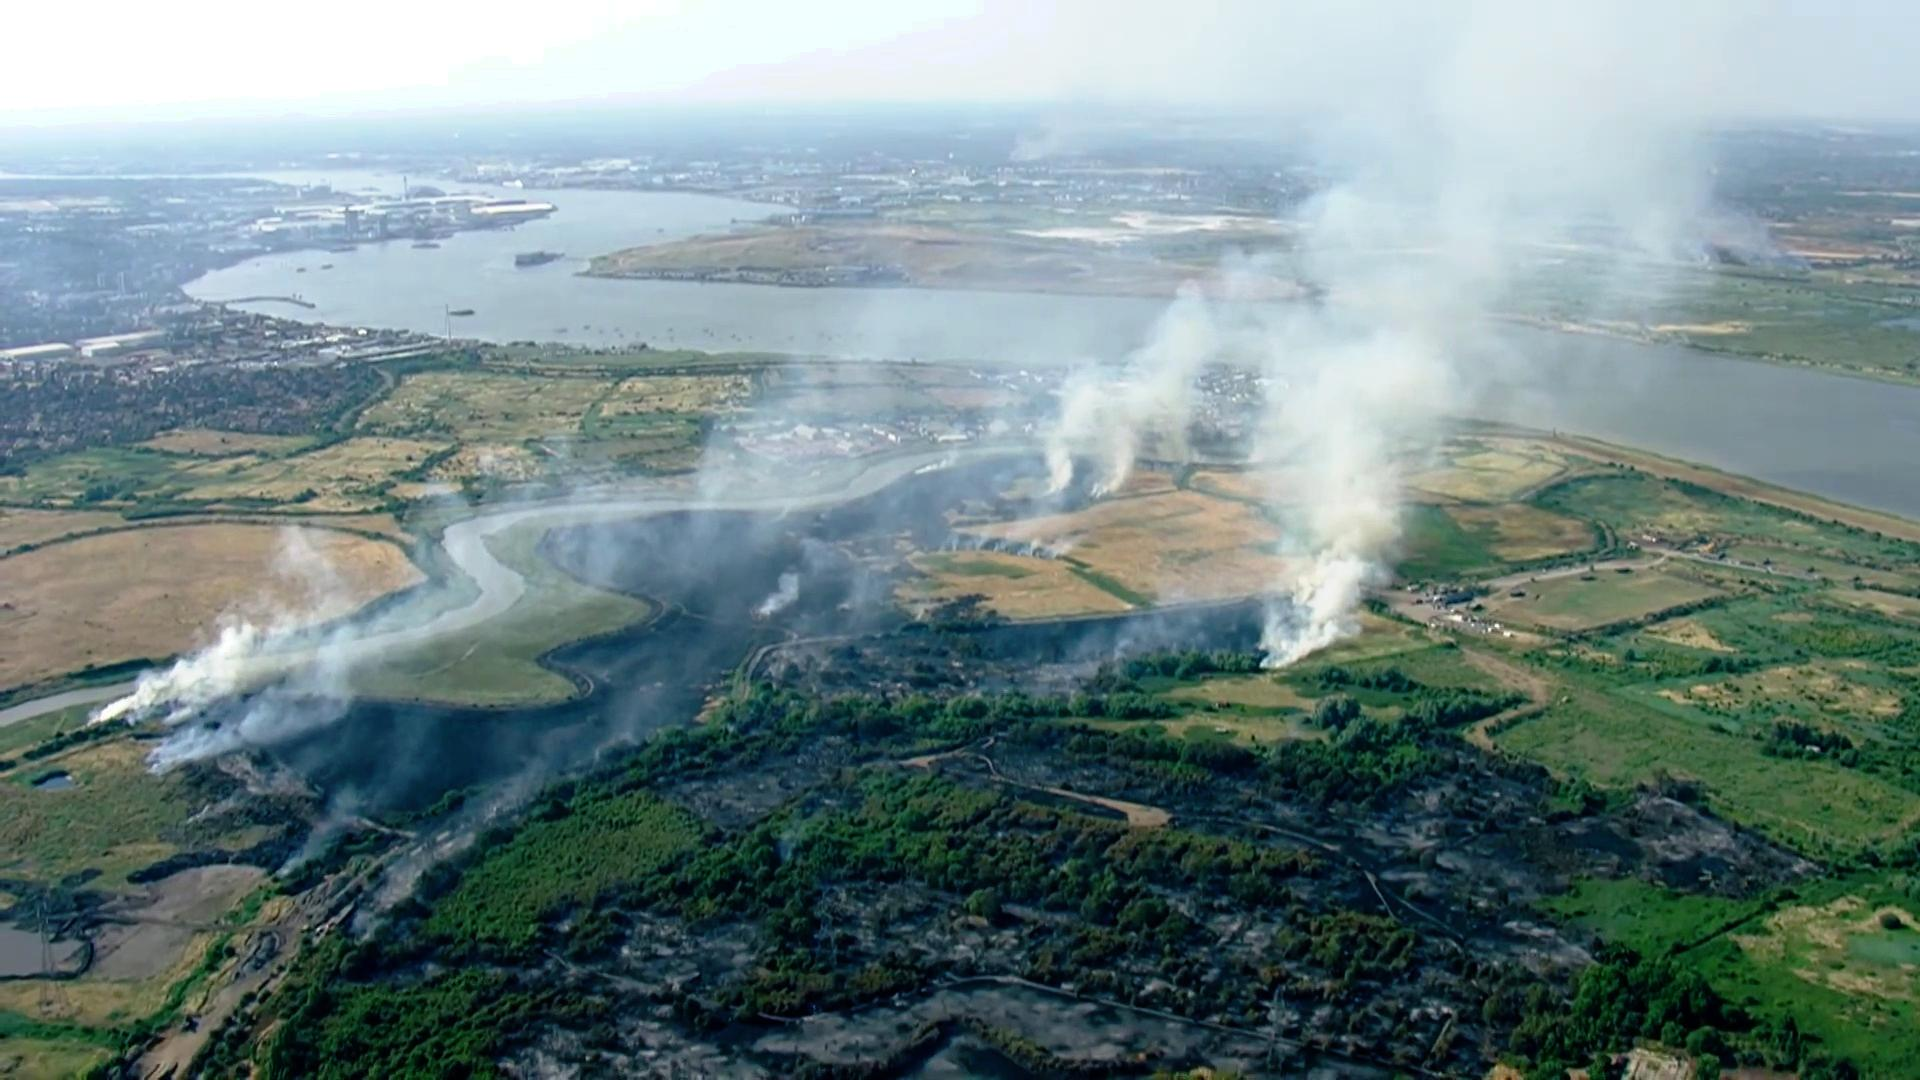smoke: (1389, 53, 1631, 306), (1288, 357, 1407, 533), (1241, 538, 1375, 661), (166, 630, 322, 733)
